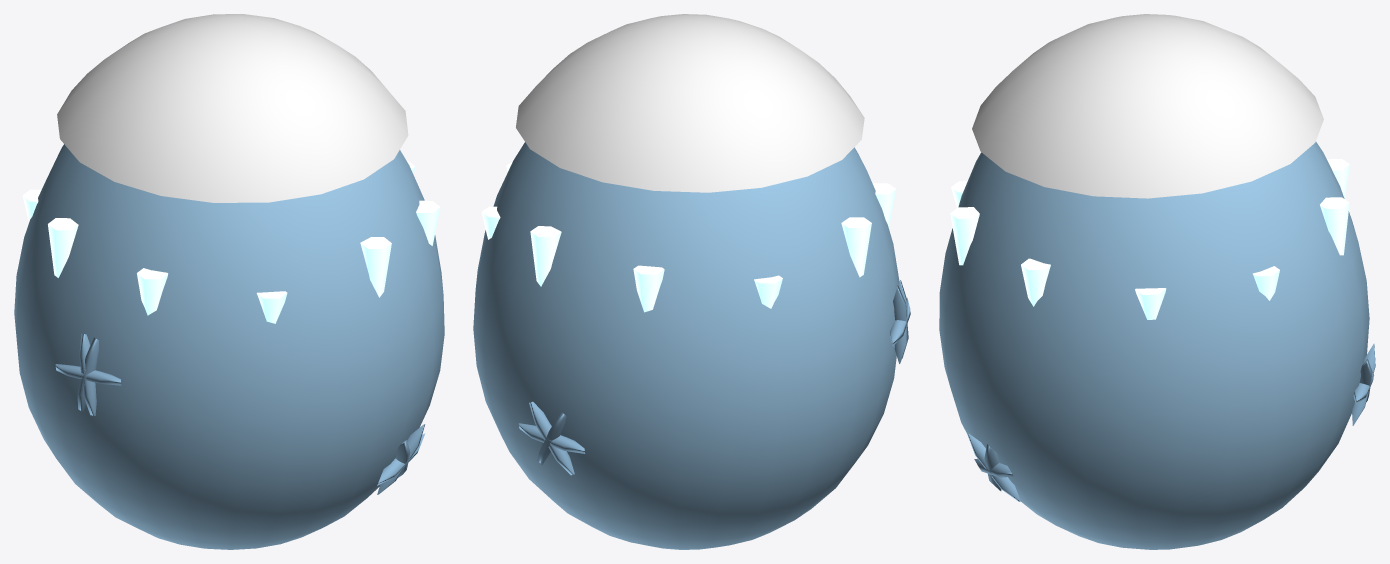
File: EggFrost.glb
3 views of the same model, side by side, from view 1: azimuth 30°, elevation 25°; view 2: azimuth 150°, elevation 25°; view 3: azimuth 270°, elevation 25° (orthographic).
Parts seen in each view (by area): view 1: Body, Glow; view 2: Body, Glow; view 3: Body, Glow.
Boxes of the visible parts, x1=… form: Body: x1=14, y1=14, x2=444, y2=549; Glow: x1=22, y1=160, x2=440, y2=323; Body: x1=473, y1=14, x2=910, y2=549; Glow: x1=481, y1=161, x2=896, y2=312; Body: x1=939, y1=14, x2=1375, y2=549; Glow: x1=950, y1=159, x2=1349, y2=319.
Size of the model in its own units: 1.93 by 2.45 by 1.94.
Materials: 2 (1 with a texture image).
